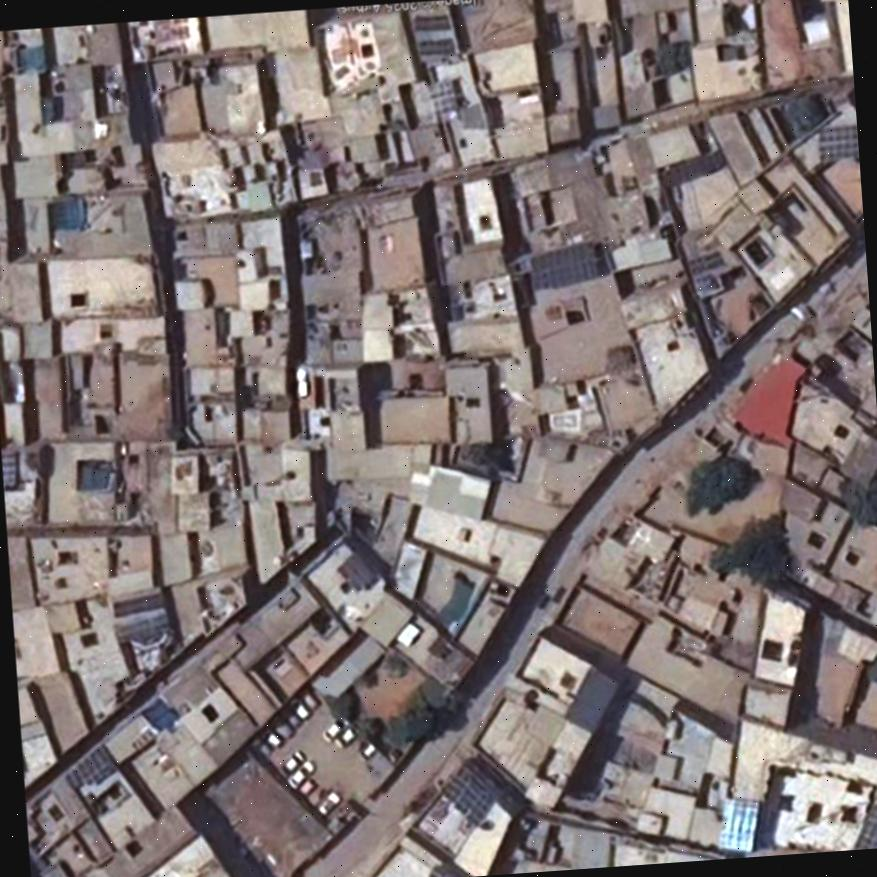Solarpanel: (440, 763, 496, 824), (529, 243, 598, 288), (63, 746, 114, 797), (717, 802, 759, 851), (821, 124, 858, 160), (851, 802, 877, 849), (413, 14, 447, 32), (415, 40, 453, 55), (1, 456, 14, 486)
